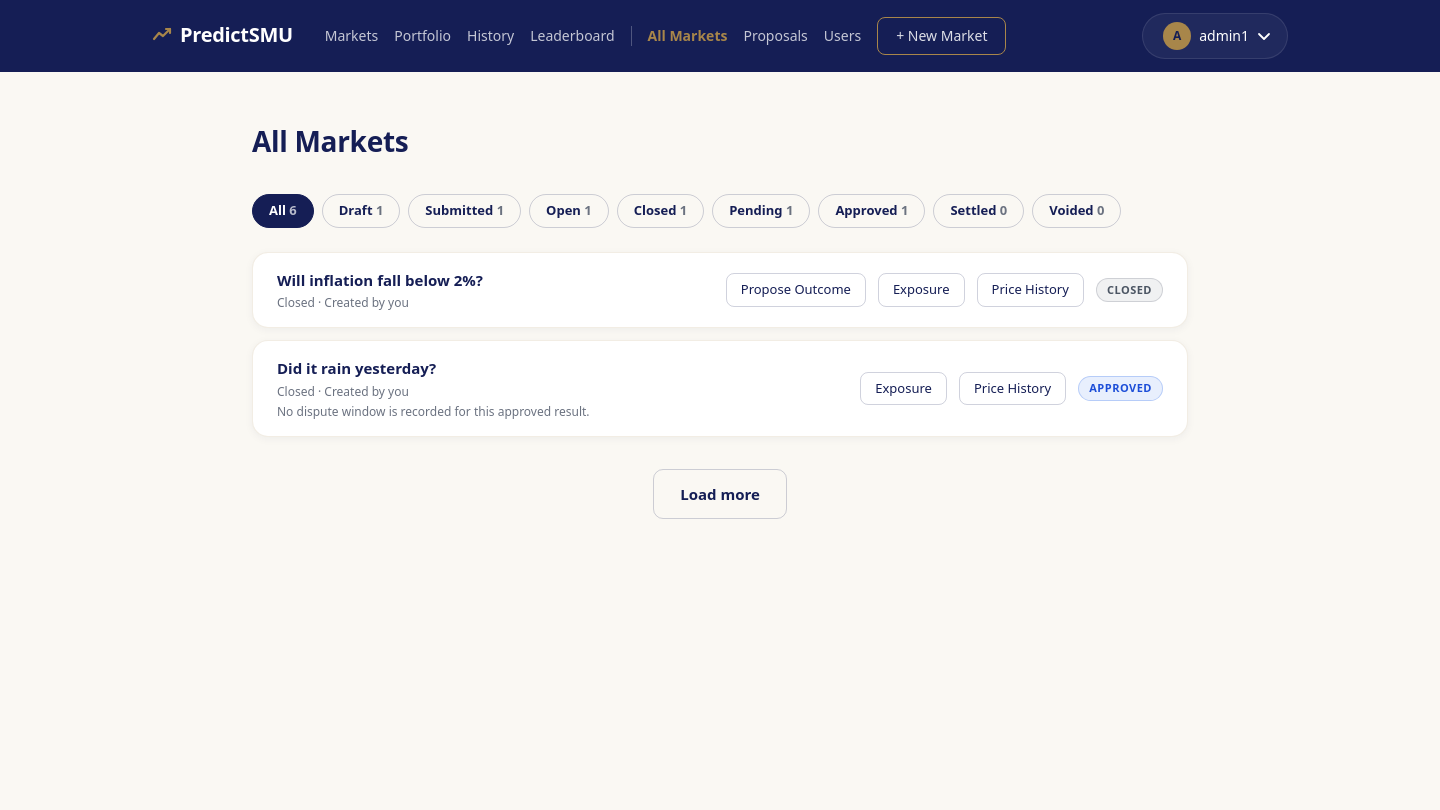
Scenario: AdminMarketsPage › keeps the rows already shown when loading more fails, and loads them on a retry
Expected: the text "Will inflation fall below 2%?" is shown, x1=277 y1=268 x2=483 y2=291
What coordinates should you click on to do the following:
click the button "Load more"
I would click on:
 (720, 494)
Its box is x1=653 y1=468 x2=787 y2=519.
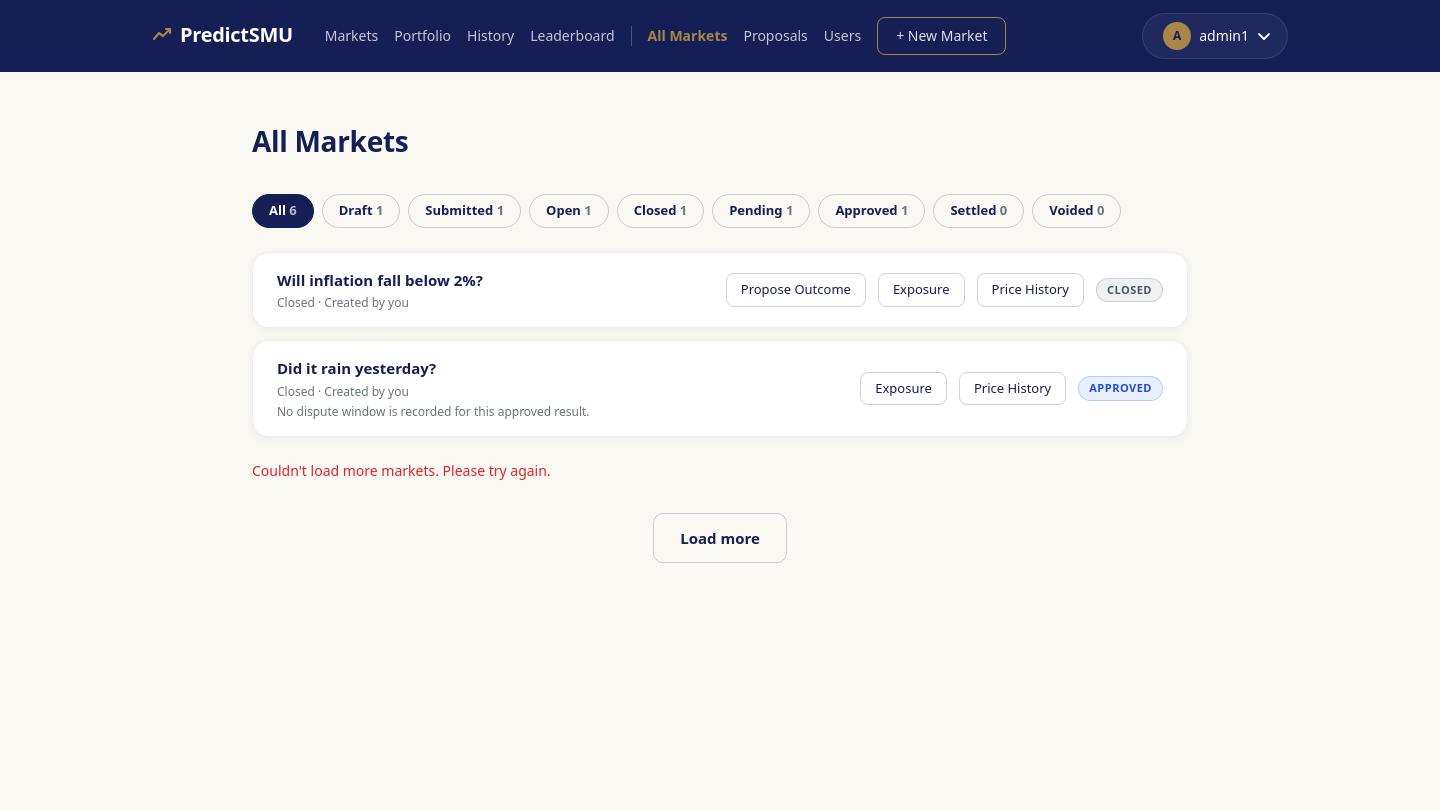
Expected: the text "Will inflation fall below 2%?" is shown, x1=277 y1=268 x2=483 y2=291
Expected: the message shows "Couldn't load more markets", x1=252 y1=460 x2=551 y2=480
What coordinates should you click on to do the following:
click the button "Load more"
I would click on:
 (720, 538)
Its box is x1=653 y1=512 x2=787 y2=563.
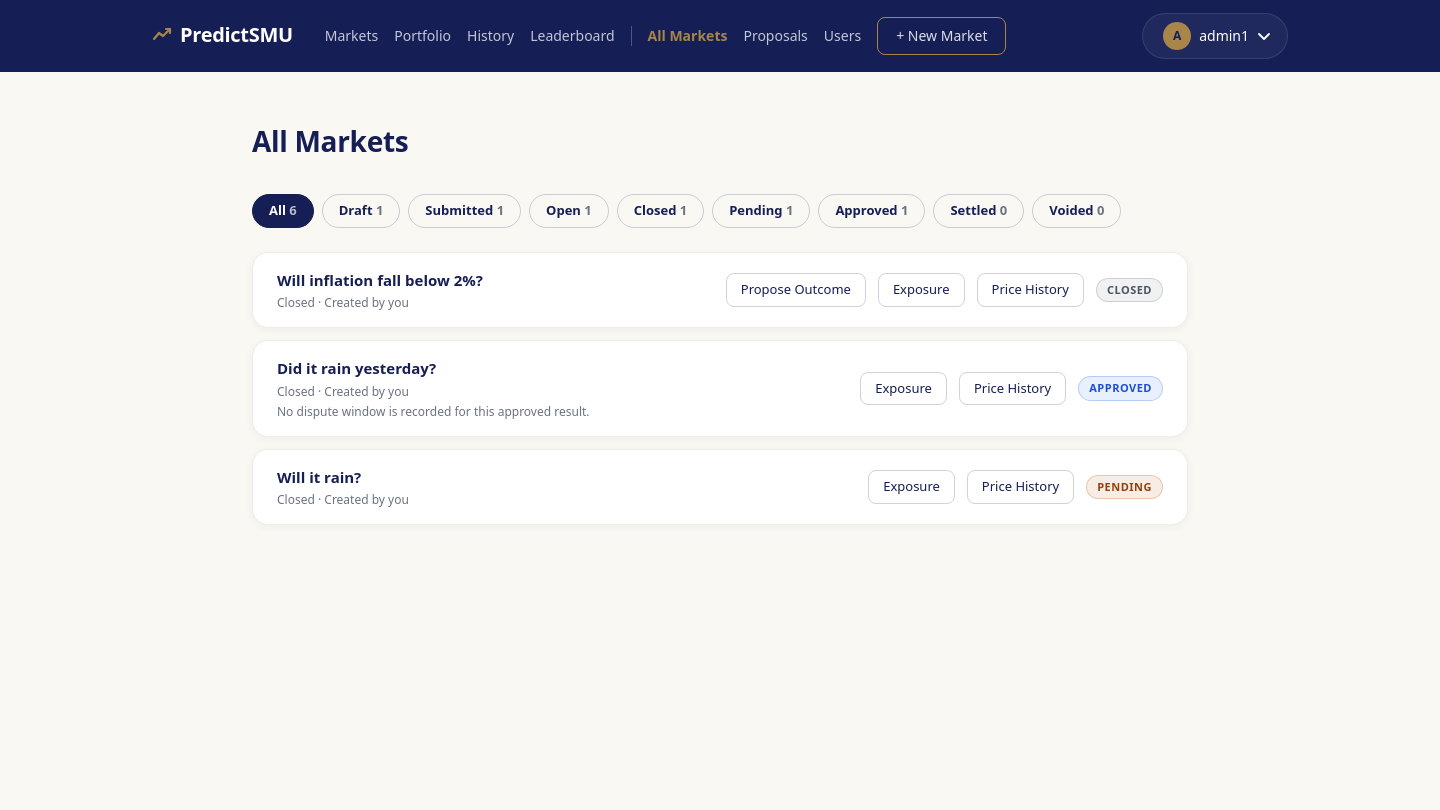
Expected: the text "Will it rain?" is shown, x1=277 y1=466 x2=361 y2=486
Expected: the message "Couldn't load more markets. Please try again." is gone
